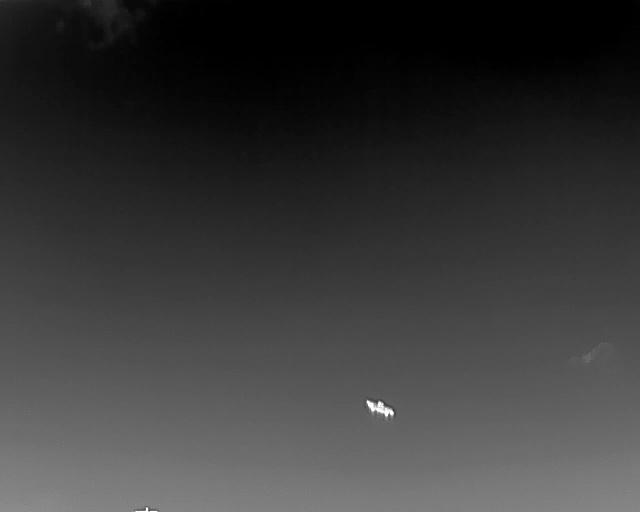fpv-drone: (365, 399, 395, 419)
